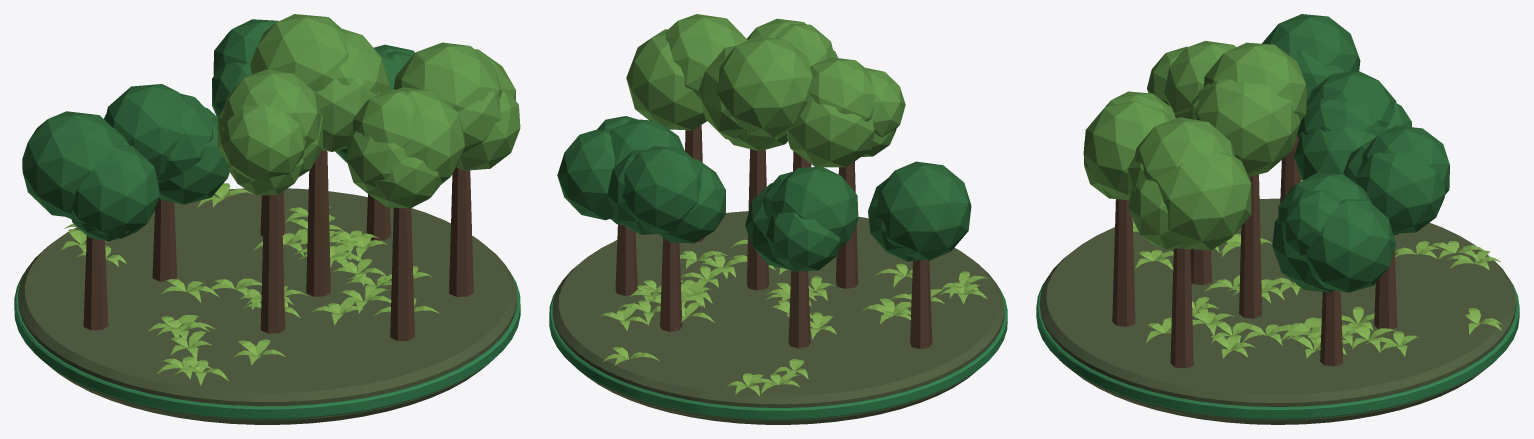
File: cuenca_bosque.src.glb
The picture shows the model from 3 angles, left to right: view 1: azimuth 30°, elevation 25°; view 2: azimuth 150°, elevation 25°; view 3: azimuth 270°, elevation 25°; orthographic projection. The views are drawn at different scales.
Visible parts, largest first — view 1: geo_detail, geo_base; view 2: geo_detail, geo_base; view 3: geo_detail, geo_base.
Part boxes in pixels (left/top/right/bottom): geo_detail: left=22, top=14, right=520, bottom=385; geo_base: left=14, top=188, right=520, bottom=424; geo_detail: left=557, top=14, right=988, bottom=395; geo_base: left=549, top=211, right=1007, bottom=424; geo_detail: left=1083, top=14, right=1501, bottom=368; geo_base: left=1036, top=198, right=1519, bottom=424.
Bounding box in the file's own units: 0.1124 × 0.0749 × 0.1116.
